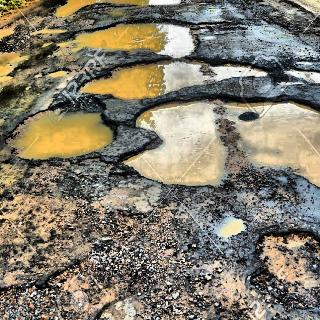pothole: (0, 0, 320, 217), (207, 80, 317, 182), (137, 90, 237, 188), (14, 95, 118, 167), (247, 227, 320, 320), (68, 17, 210, 61), (99, 49, 191, 107), (199, 35, 263, 103), (6, 27, 77, 86)
